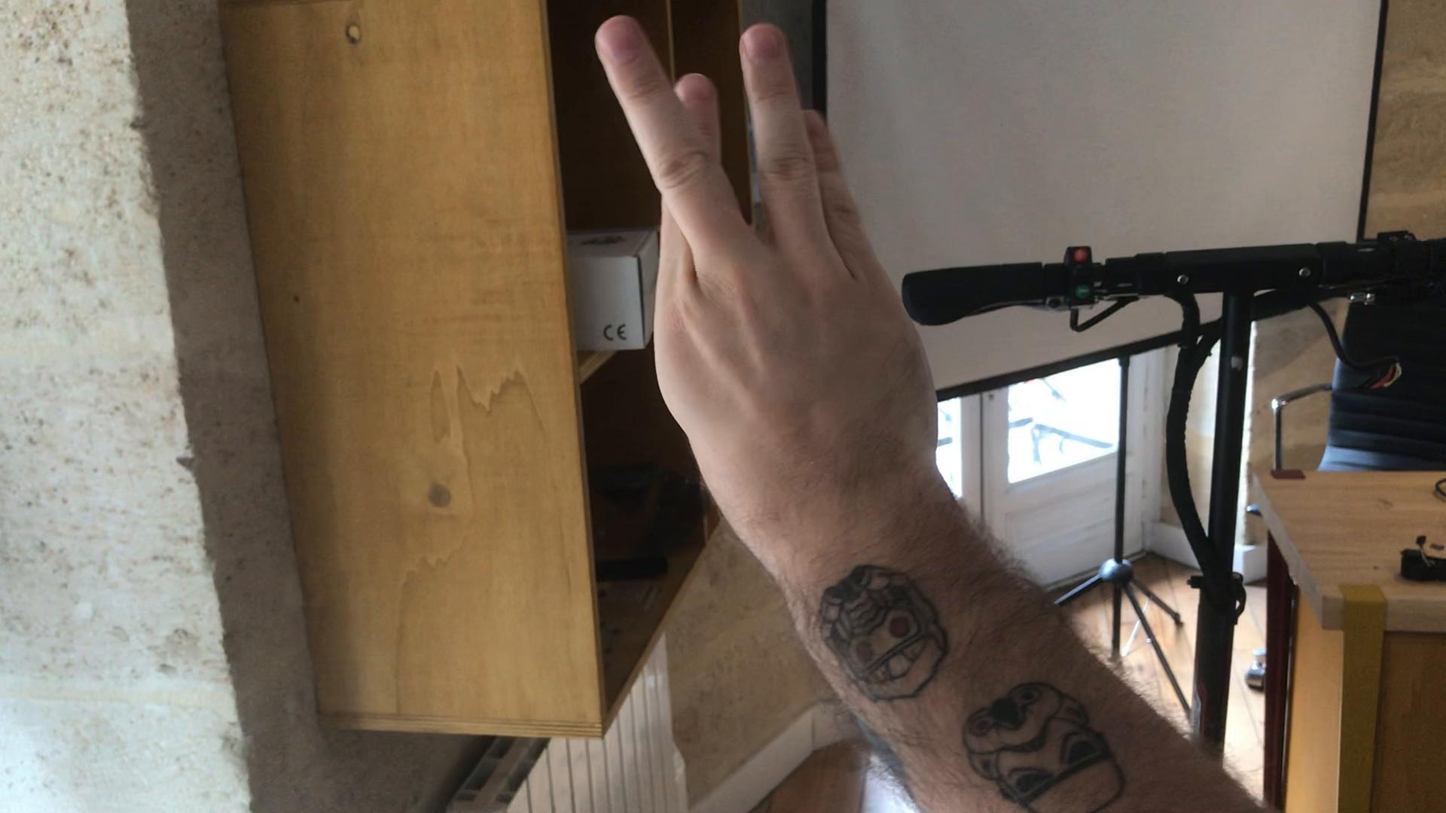palm: (589, 6, 939, 524)
